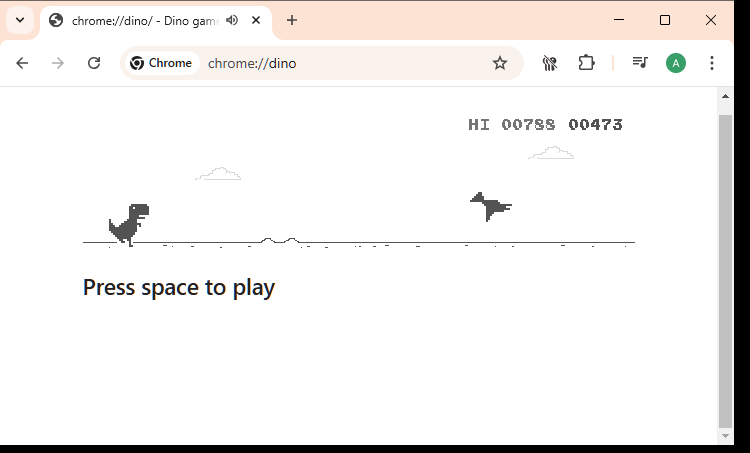bird: (468, 190, 514, 224)
dino: (108, 203, 150, 248)
